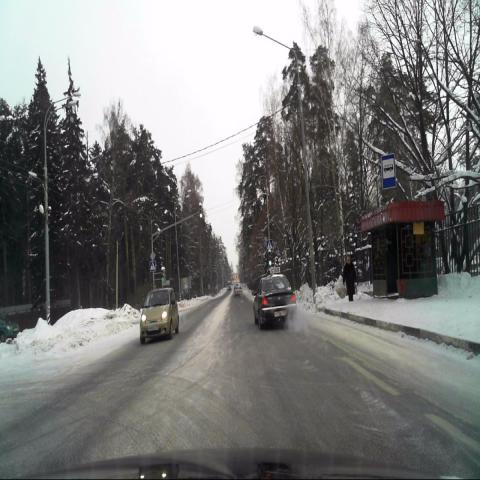5_16: (382, 153, 395, 188)
5_19_1: (266, 239, 273, 251)
